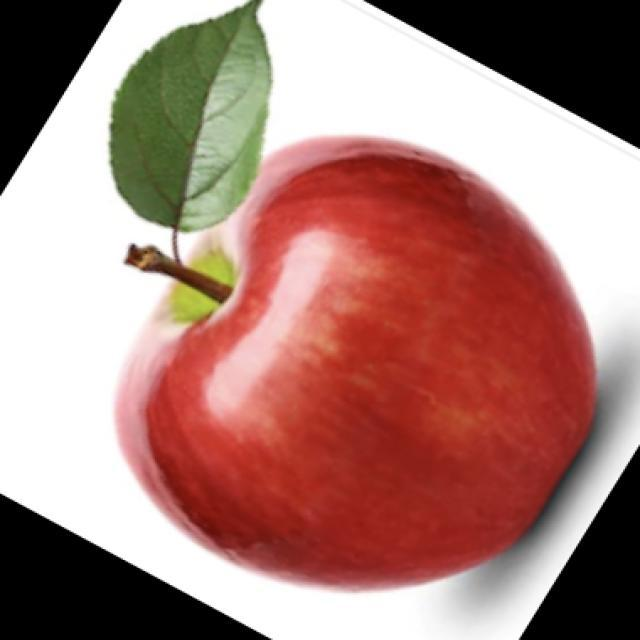Fresh Apple: (83, 145, 615, 587)
